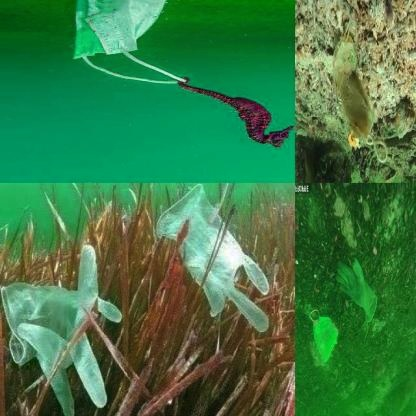Mask: (10, 0, 191, 93), (333, 21, 387, 162), (310, 303, 338, 362)
glove: (1, 242, 123, 415), (153, 184, 270, 339), (336, 252, 377, 324)
